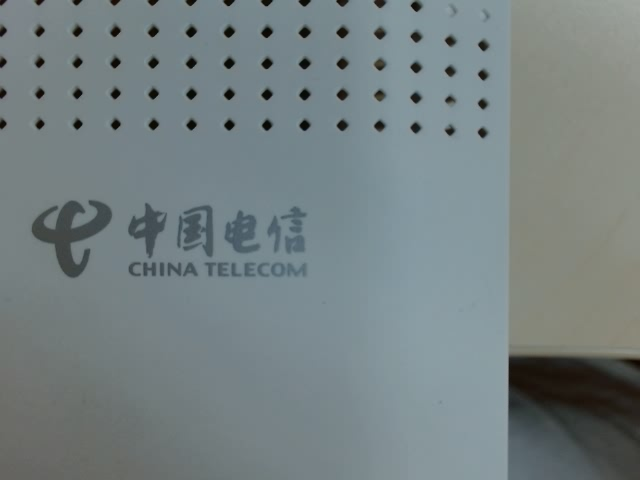AB_ChinaTelecom: (16, 175, 322, 299)
